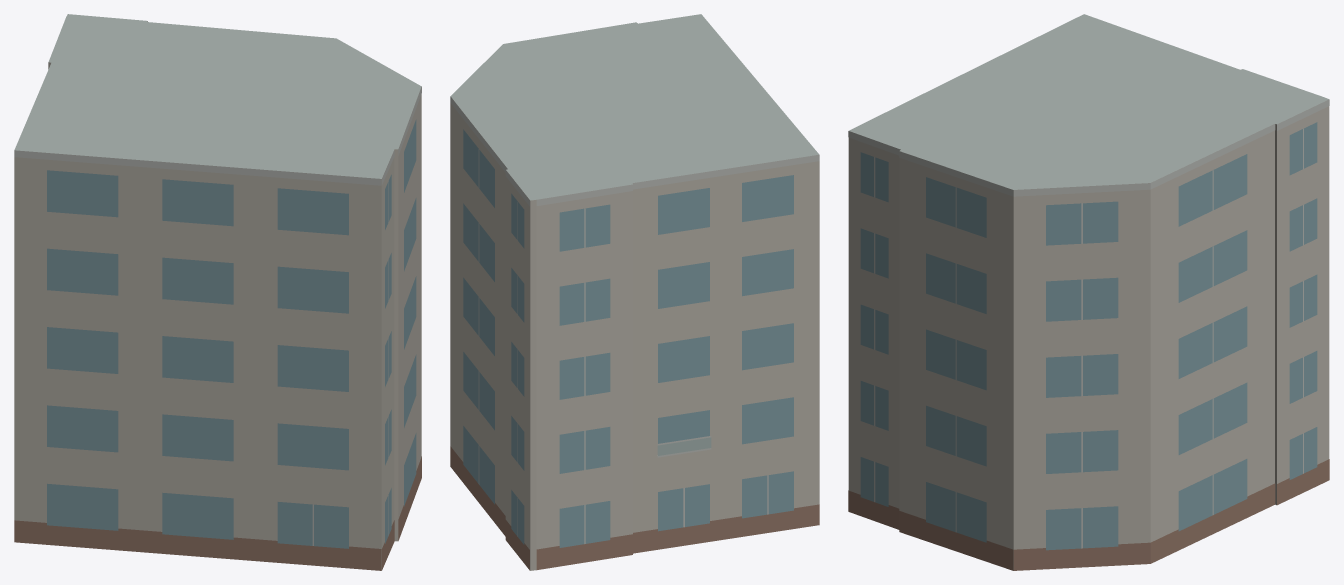
The model's file is survey-upis-32716194.glb.
3 renders of one model, left to right at view 1: azimuth 30°, elevation 25°; view 2: azimuth 150°, elevation 25°; view 3: azimuth 270°, elevation 25°, orthographic. The views are drawn at different scales.
Parts seen in each view (by area): view 1: survey-upis-32716194.tmp; view 2: survey-upis-32716194.tmp; view 3: survey-upis-32716194.tmp.
Boxes of the visible parts, bbox=[...] form: survey-upis-32716194.tmp: bbox=[14, 14, 421, 570]; survey-upis-32716194.tmp: bbox=[450, 14, 819, 570]; survey-upis-32716194.tmp: bbox=[848, 14, 1329, 570].
Bounding box in the file's own units: 13.88 × 14 × 16.03.
